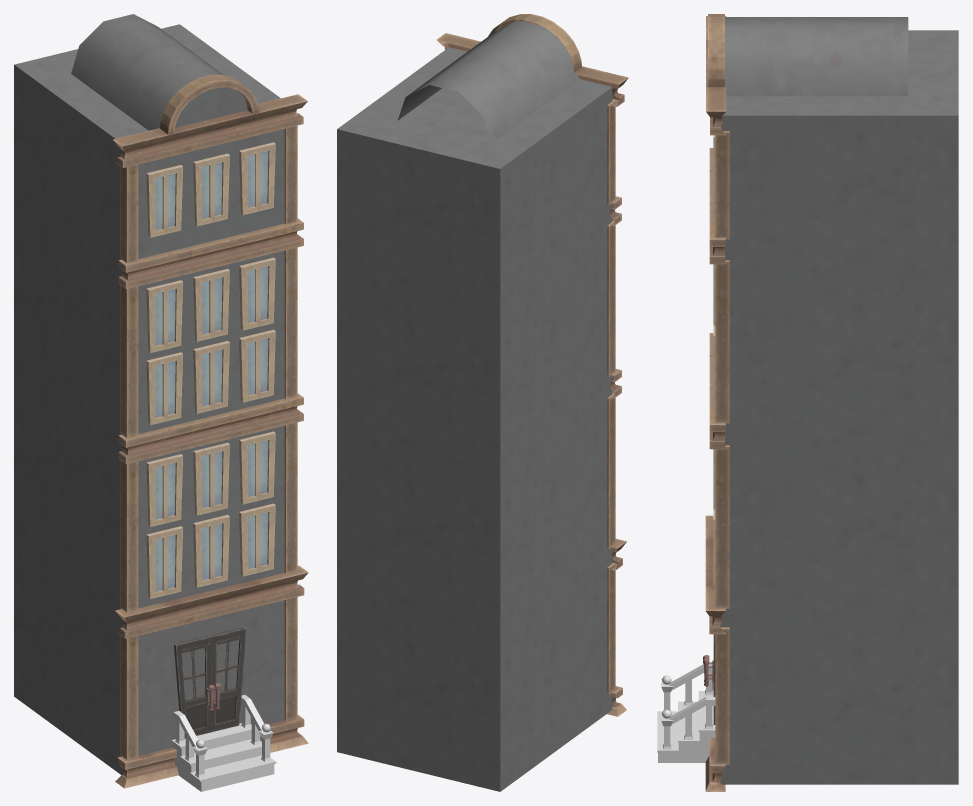
File: Ev_Tallbuilding_4.fbx
3 renders of one model, left to right at view 1: azimuth 30°, elevation 25°; view 2: azimuth 150°, elevation 25°; view 3: azimuth 270°, elevation 25°, orthographic. The views are drawn at different scales.
Visible parts, largest first — view 1: Object067, Object066, Object065, Object060, Cylinder042, P_Doubledoor_005, P_Frame_087, P_Frame_084, P_Frame_085, P_Frame_086, stair1, P_framelong_027 (+26 smaller); view 2: Object066, Object067, Object060, Object065, Cylinder042, P_framelong_027, P_framelong_025, P_Frame_087, P_framelong_023, P_Frameupper_010, P_framelong_029; view 3: Object066, Object067, Object060, Object065, Cylinder042, P_framelong_024, P_framelong_026, stair1, P_framelong_022, P_framelong_028, P_Frame_084, P_Frameupper_010 (+6 smaller).
Part boxes in pixels (x1,y1,x2,y2): Object067: (14, 189, 284, 445); Object066: (14, 366, 284, 623); Object065: (14, 543, 284, 775); Object060: (14, 24, 284, 265); Cylinder042: (71, 14, 247, 130); P_Doubledoor_005: (174, 626, 246, 738); P_Frame_087: (113, 94, 307, 167); P_Frame_084: (115, 565, 308, 638); P_Frame_085: (118, 393, 303, 463); P_Frame_086: (118, 218, 303, 288); stair1: (171, 723, 276, 791); P_framelong_027: (120, 285, 138, 437); Object066: (337, 386, 612, 640); Object067: (337, 212, 612, 466); Object060: (337, 47, 612, 291); Object065: (337, 559, 612, 791); Cylinder042: (397, 20, 579, 143); P_framelong_027: (607, 220, 615, 376); P_framelong_025: (607, 393, 615, 548); P_Frame_087: (436, 33, 628, 106); P_framelong_023: (607, 562, 615, 694); P_Frameupper_010: (488, 14, 581, 72); P_framelong_029: (607, 100, 615, 205); Object066: (721, 435, 958, 622); Object067: (725, 248, 958, 435); Object060: (721, 30, 958, 247); Object065: (720, 622, 958, 784); Cylinder042: (725, 17, 908, 96); P_framelong_024: (715, 445, 729, 608); P_framelong_026: (715, 260, 729, 423); stair1: (657, 691, 715, 762); P_framelong_022: (715, 627, 729, 764); P_framelong_028: (715, 131, 729, 239); P_Frame_084: (705, 515, 725, 634); P_Frameupper_010: (708, 14, 724, 86).
Size of the model in its own units: 27.28 by 95.65 by 36.1.
